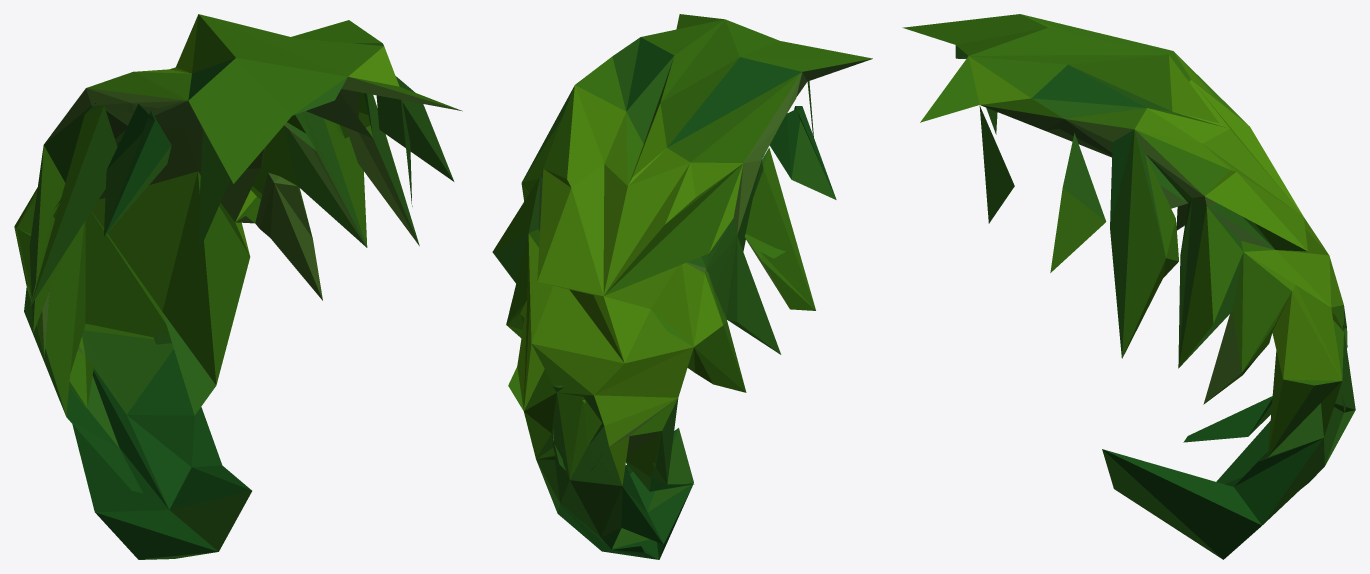
File: frond-b.glb
The picture shows the model from 3 angles, left to right: view 1: azimuth 30°, elevation 25°; view 2: azimuth 150°, elevation 25°; view 3: azimuth 270°, elevation 25°; orthographic projection. The views are drawn at different scales.
Parts seen in each view (by area): view 1: frond-b; view 2: frond-b; view 3: frond-b.
Part boxes in pixels (x1,y1,x2,y2): frond-b: [14, 14, 462, 559]; frond-b: [492, 14, 872, 559]; frond-b: [902, 14, 1355, 559].
Size of the model in its own units: 2.9 by 4.26 by 3.5.
